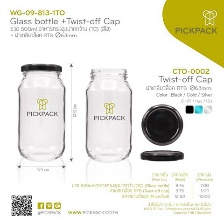bottle: (82, 61, 135, 164), (16, 57, 66, 164)
